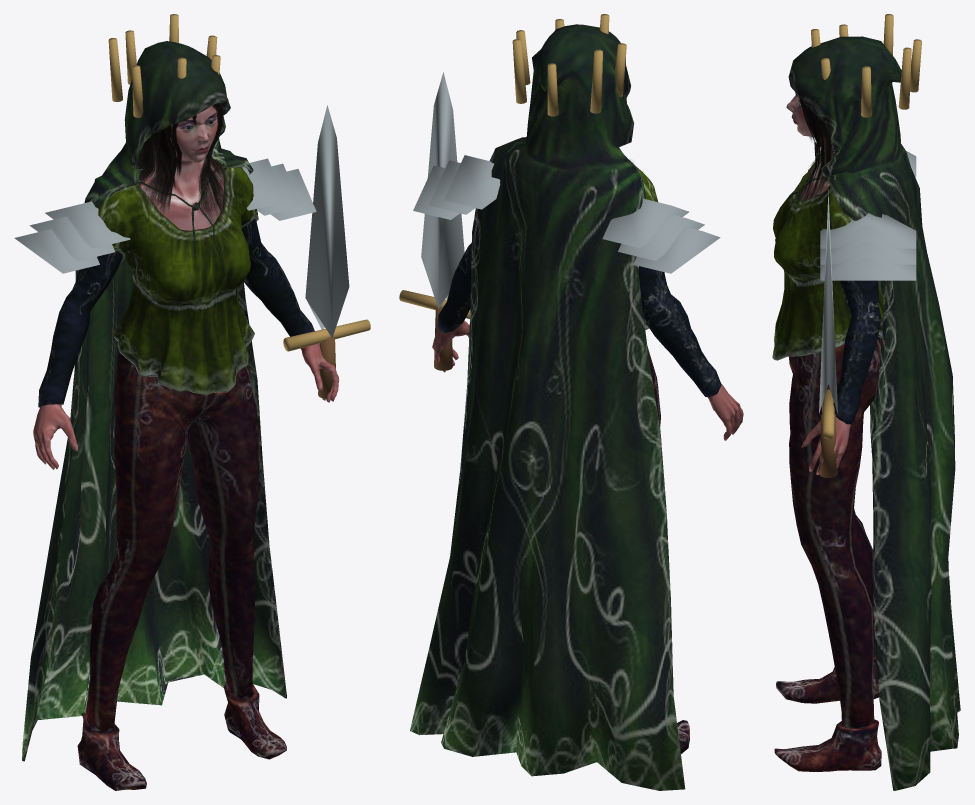
Rendered from actor-norowas-mobile.glb.
3 views of the same model, side by side, from view 1: azimuth 30°, elevation 25°; view 2: azimuth 150°, elevation 25°; view 3: azimuth 270°, elevation 25° (orthographic). The views are drawn at different scales.
Visible parts, largest first — view 1: LOW_body · posed; view 2: LOW_body · posed; view 3: LOW_body · posed.
Part boxes in pixels (x1,y1,x2,y2): LOW_body · posed: [14, 14, 370, 790]; LOW_body · posed: [399, 14, 743, 790]; LOW_body · posed: [772, 14, 960, 790].
Bounding box in the file's own units: 0.9756 × 2.01 × 0.4911.
Materials: 8 (5 with a texture image).
